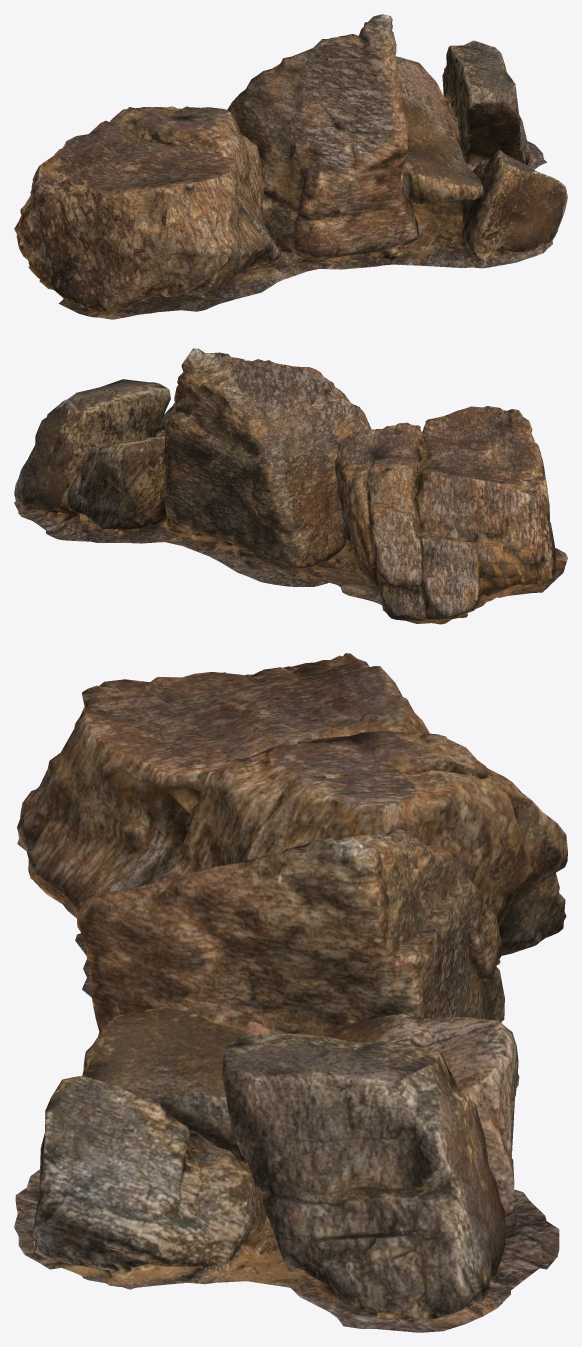
File: namaqualand_boulder_02_web.glb
3 renders of one model, top to bottom at view 1: azimuth 30°, elevation 25°; view 2: azimuth 150°, elevation 25°; view 3: azimuth 270°, elevation 25°, orthographic. The views are drawn at different scales.
Parts seen in each view (by area): view 1: boulder_02; view 2: boulder_02; view 3: boulder_02.
Part boxes in pixels (left/top/right/bottom): boulder_02: left=14, top=14, right=567, bottom=319; boulder_02: left=14, top=348, right=567, bottom=624; boulder_02: left=14, top=653, right=567, bottom=1332.
Size of the model in its own units: 2.53 by 0.8804 by 1.23.
Materials: 1 (1 with a texture image).
